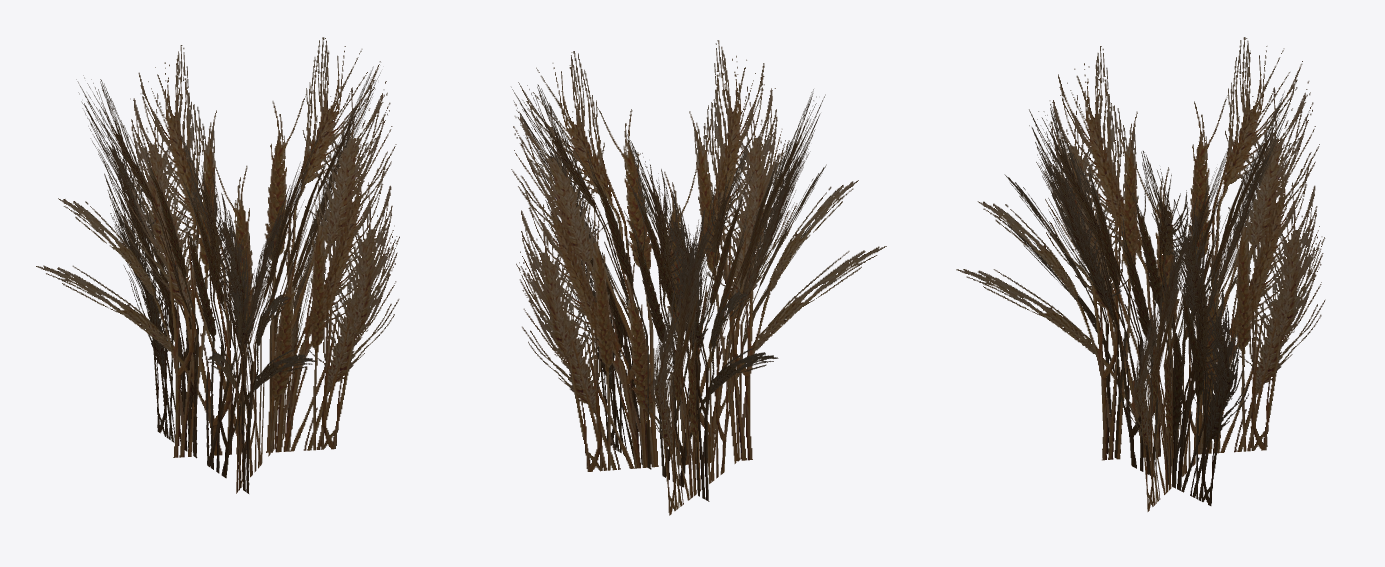
The model's file is wheat_1_1.glb.
3 views of the same model, side by side, from view 1: azimuth 30°, elevation 25°; view 2: azimuth 150°, elevation 25°; view 3: azimuth 270°, elevation 25° (orthographic). The views are drawn at different scales.
Parts seen in each view (by area): view 1: wheat_1_1; view 2: wheat_1_1; view 3: wheat_1_1.
Boxes of the visible parts, bbox=[...] form: wheat_1_1: bbox=[36, 37, 399, 493]; wheat_1_1: bbox=[511, 40, 886, 515]; wheat_1_1: bbox=[956, 37, 1325, 511].
Size of the model in its own units: 1.18 by 1.25 by 1.22.
Materials: 1 (1 with a texture image).
